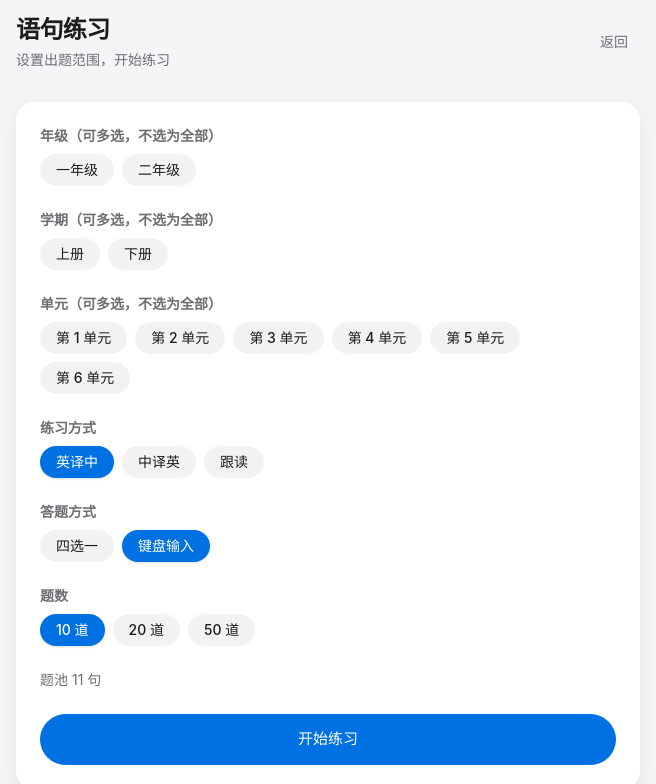
Test: 配置边界 › 筛选到空题池时禁用开始
This screenshot has width=656, height=784.
Click the button "二年级" at coordinates (159, 170), box [122,154,196,186]
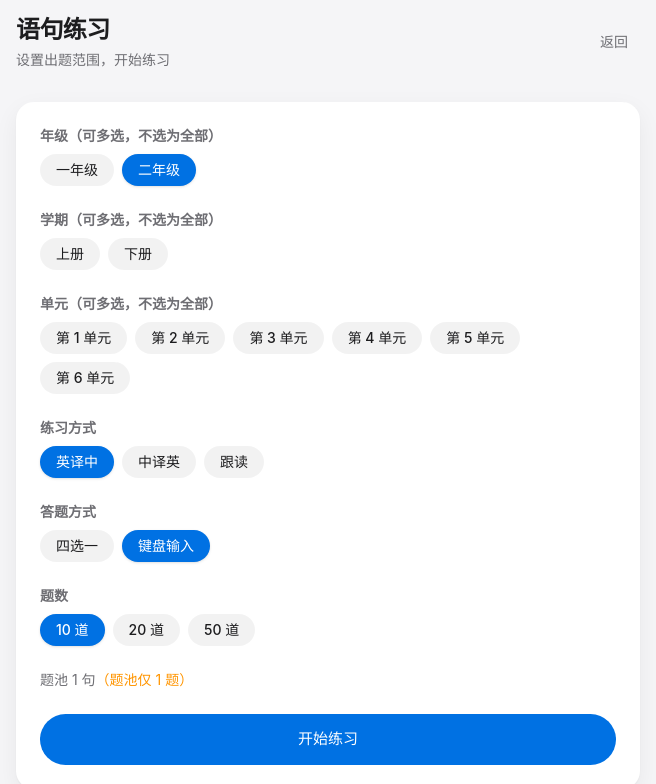
Click the button "第 2 单元" at coordinates (180, 338), box [135,322,225,354]
(page scrolled)
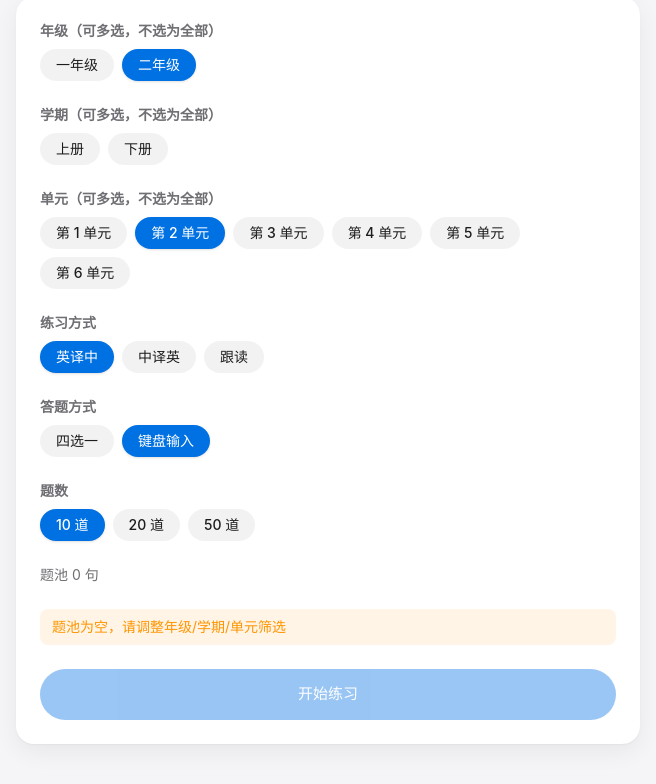
Result: the text with test id "pool-count" reads "题池 0 句" at [40,566,99,583]
Result: the text "题池为空，请调整年级/学期/单元筛选" is shown at [40,609,616,645]
Result: the button with test id "start" is disabled at [40,669,616,720]
